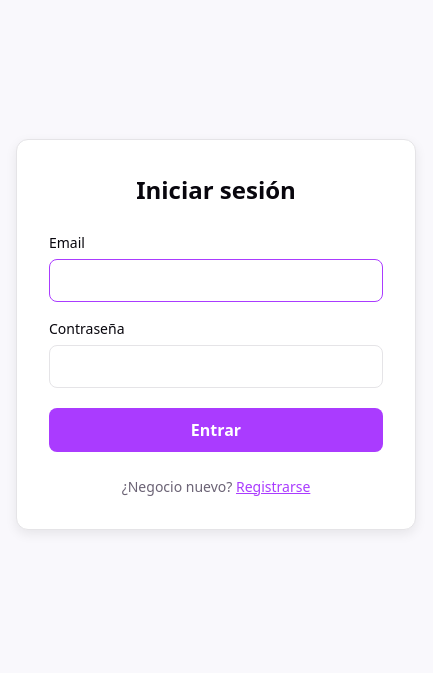
invalid_password (registro) se muestra en español, no como código
Click the button "Registrarse". click: (273, 486)
box: [236,476,310,496]
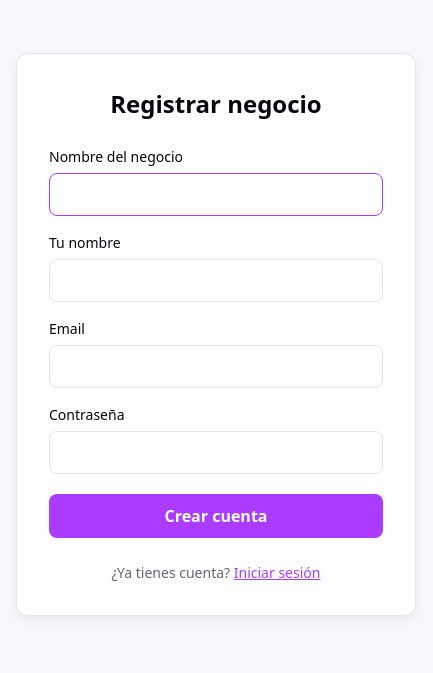
Type "Mi negocio" into the field labelled "Nombre del negocio". click: (216, 194)
box: [49,172,383,216]
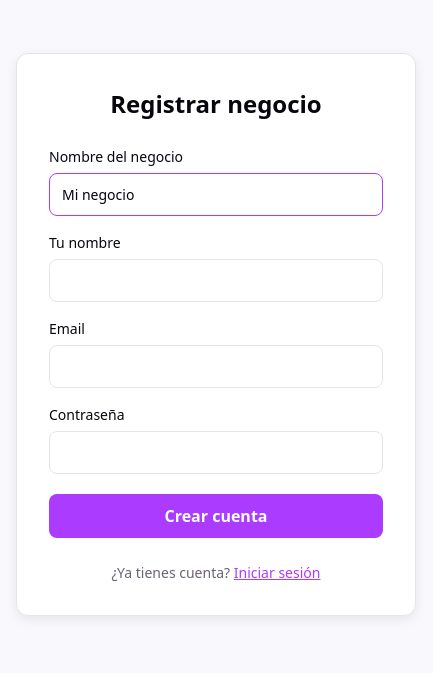
Type "Ana" into the field labelled "Tu nombre". click: (216, 280)
box: [49,258,383,302]
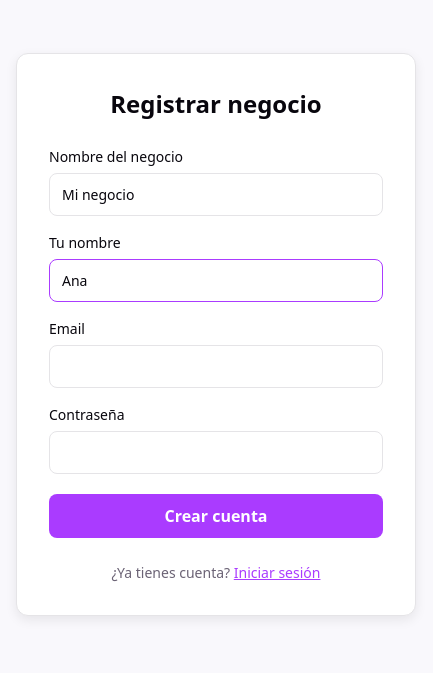
Type "ana@test.com" into the field labelled "Email". click: (216, 366)
box: [49,344,383,388]
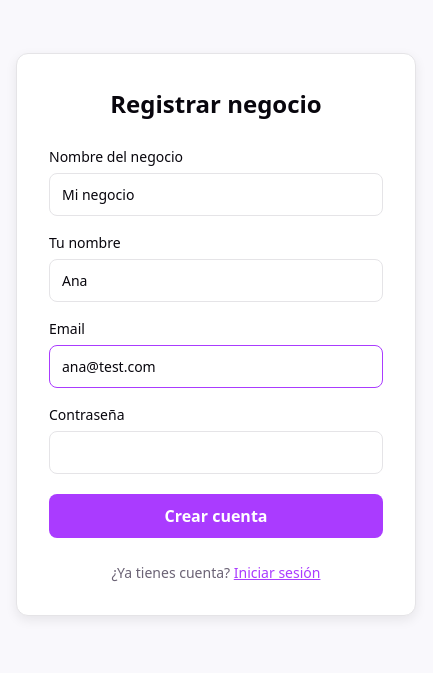
Type "larga-123" into the password field labelled "Contraseña". click: (216, 452)
box: [49,430,383,474]
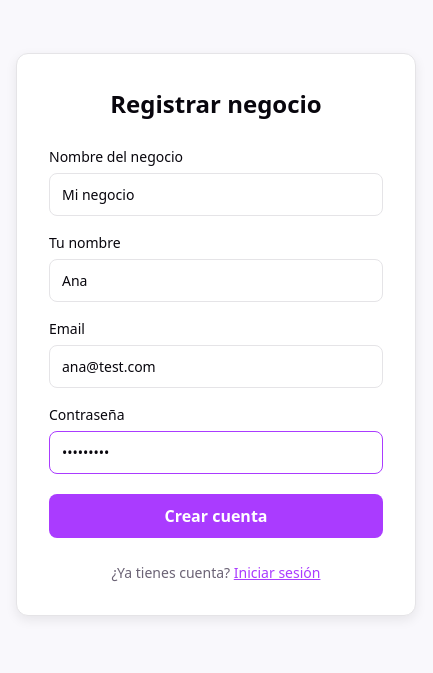
Click the button "Crear cuenta". click: (216, 516)
box: [49,494,383,538]
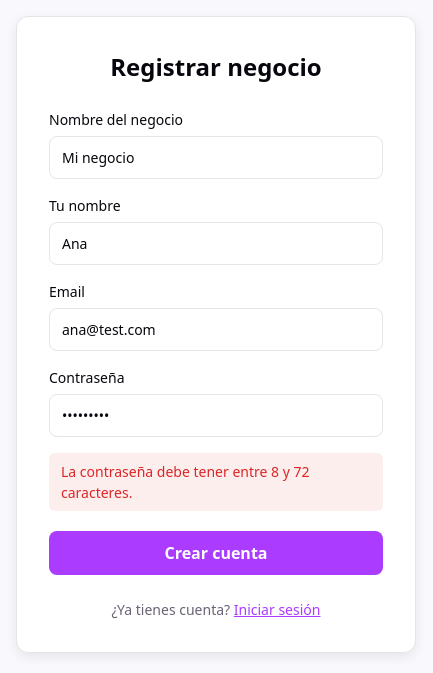
Now the text "La contraseña debe tener entre 8 y 72 caracteres." is shown, box [49,452,383,510]
